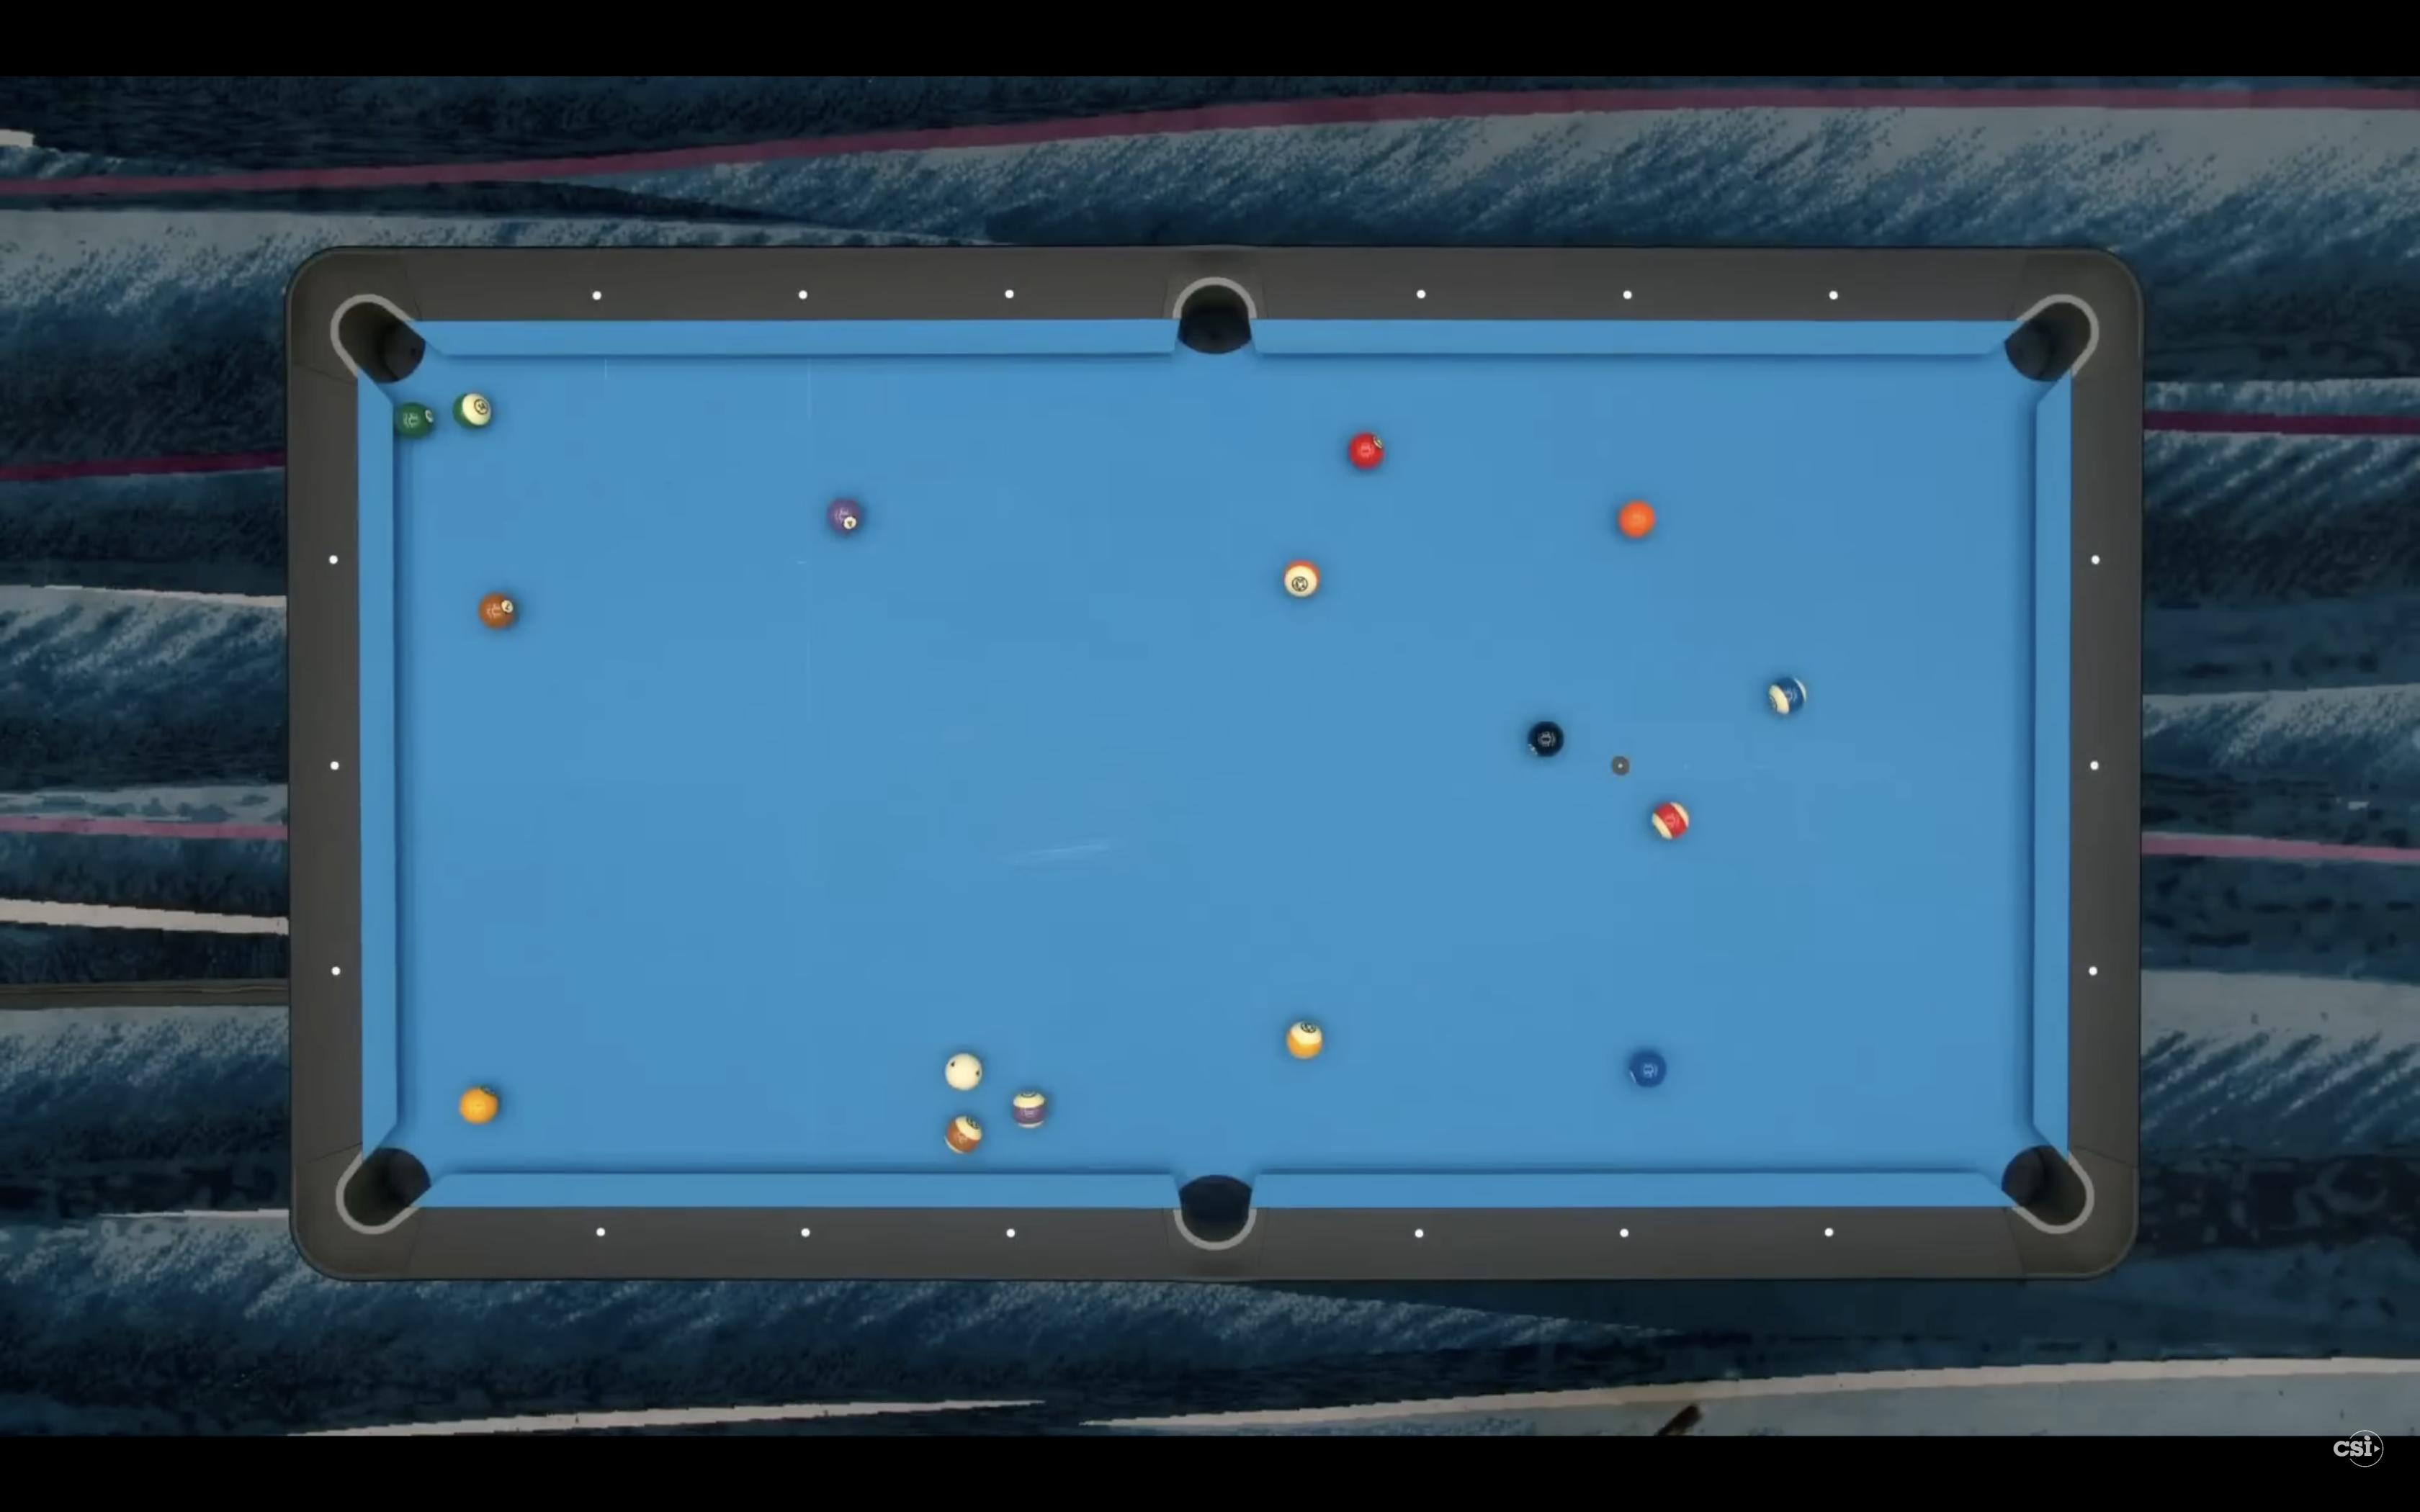Black: (1526, 721, 1565, 759)
Cue: (944, 1052, 983, 1092)
Dot: (592, 291, 603, 301), (1416, 289, 1427, 300), (2091, 554, 2101, 564), (2089, 965, 2098, 977), (798, 291, 808, 300), (1005, 289, 1014, 300), (2091, 761, 2099, 772), (1824, 1228, 1835, 1237), (1620, 1228, 1629, 1239), (1415, 1228, 1423, 1239), (1007, 1228, 1016, 1239), (596, 1228, 606, 1237), (329, 554, 338, 564), (329, 761, 340, 770), (331, 967, 341, 975), (1624, 291, 1632, 300), (1829, 291, 1838, 300), (801, 1228, 810, 1237)
Solid: (1629, 1050, 1667, 1089), (394, 402, 434, 439), (460, 1087, 498, 1124), (1349, 432, 1385, 470), (1619, 500, 1655, 538), (479, 594, 514, 631), (828, 498, 861, 533)
Striped: (453, 392, 493, 430), (1768, 676, 1807, 716), (944, 1117, 983, 1155), (1652, 801, 1690, 840), (1282, 559, 1321, 597), (1286, 1023, 1322, 1059), (1012, 1090, 1047, 1129)
